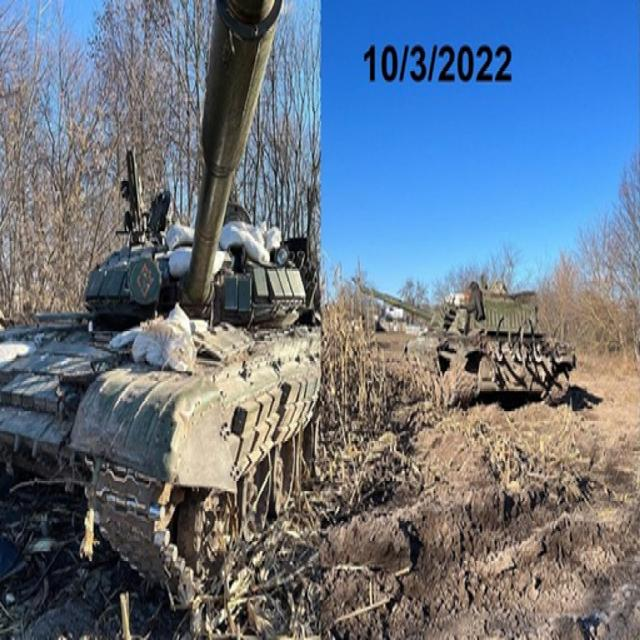TANK: (0, 0, 320, 607), (358, 276, 578, 422)
